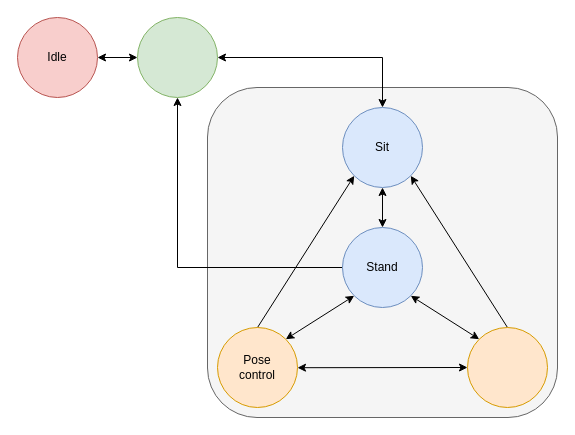
Image size: 575x435. Some labels were removed from this diagram. Each missing label, with the centre of its shape:
"Hold" goes at [177,57].
"Walking control" goes at [507,367].
